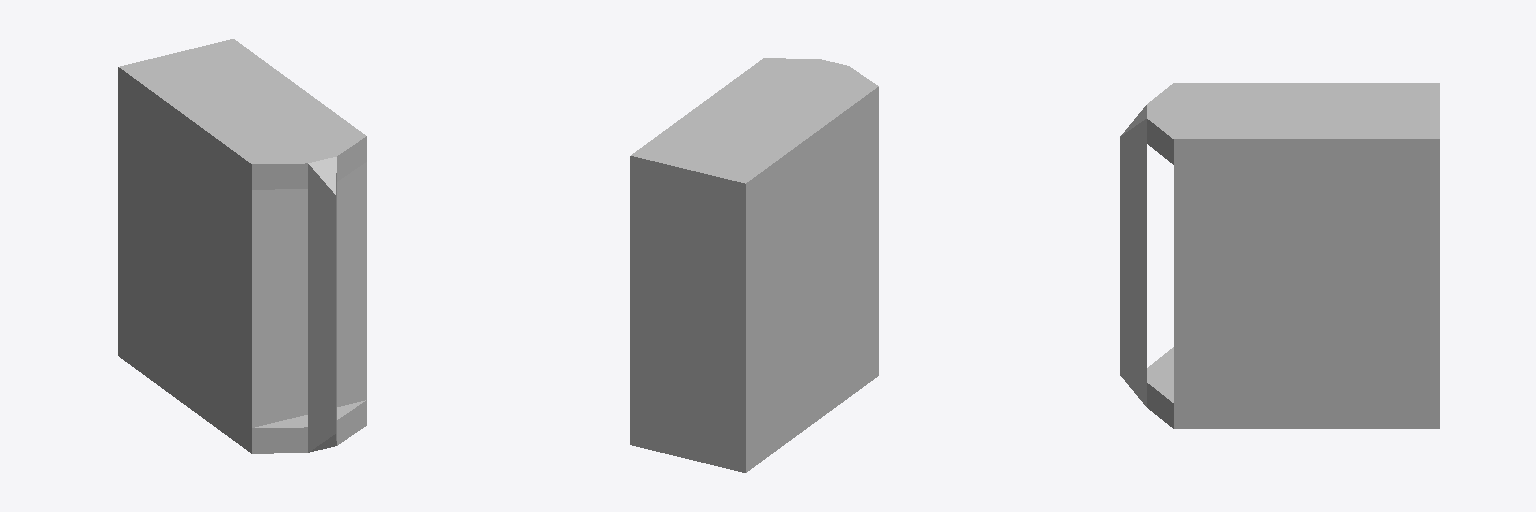
The model's file is pulse-cannon_charge.obj.
The picture shows the model from 3 angles: view 1: azimuth 30°, elevation 25°; view 2: azimuth 150°, elevation 25°; view 3: azimuth 270°, elevation 25°; orthographic projection.
Parts seen in each view (by area): view 1: Cylinder; view 2: Cylinder; view 3: Cylinder.
Boxes of the visible parts, box(x1,y1,x2,y2) form: Cylinder: box(118, 39, 366, 453); Cylinder: box(630, 58, 878, 472); Cylinder: box(1120, 83, 1439, 428).
Size of the model in its own units: 0.025 by 0.06 by 0.06.